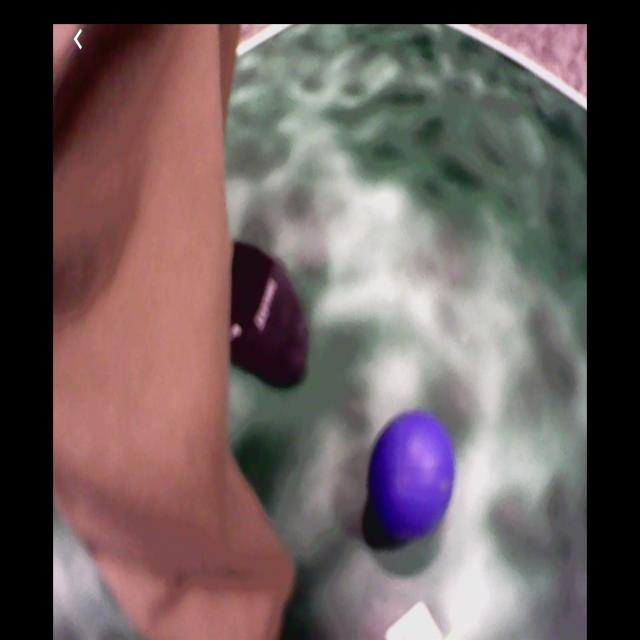ball: (368, 411, 455, 539)
